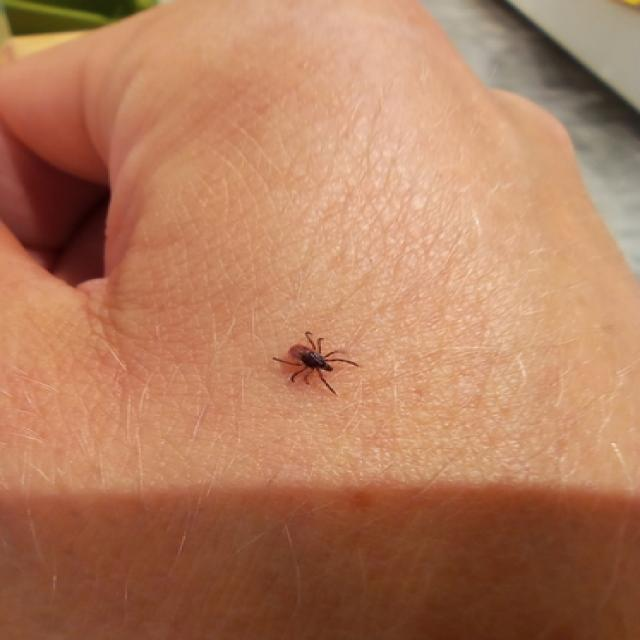Ixodes Ricinus-F: (271, 333, 359, 398)
